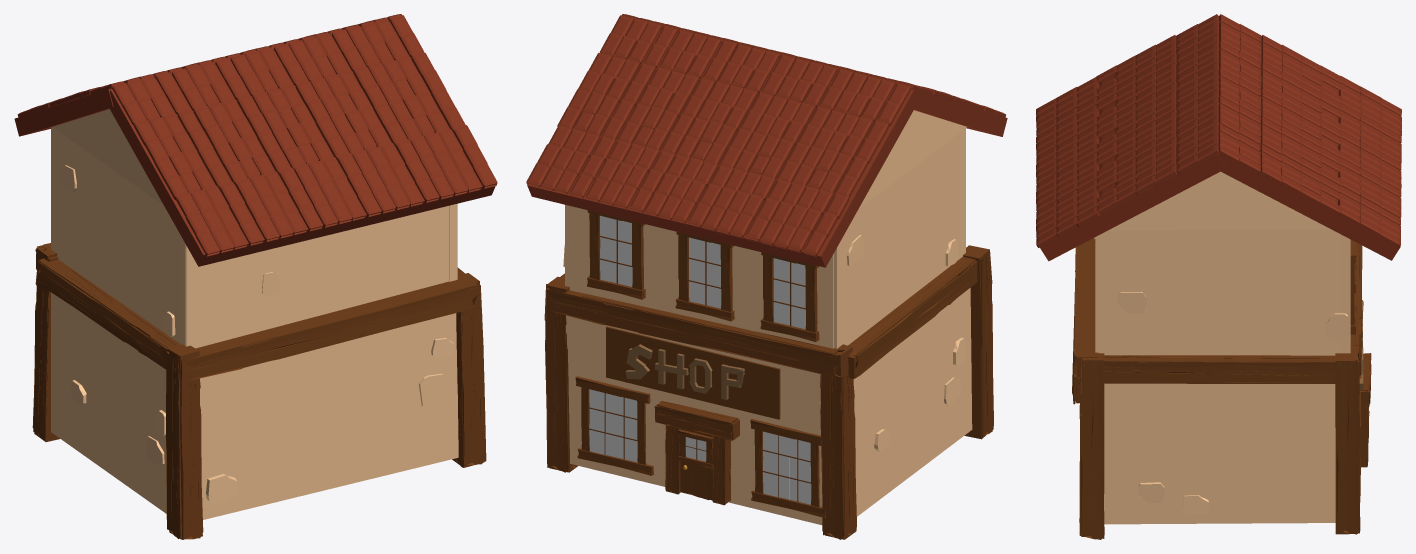
Rendered from Shop2.fbx.
3 views of the same model, side by side, from view 1: azimuth 30°, elevation 25°; view 2: azimuth 150°, elevation 25°; view 3: azimuth 270°, elevation 25° (orthographic). The views are drawn at different scales.
Parts seen in each view (by area): view 1: Cube.3309, Cube.3313, Cube.3314, Cube.3310, Cube.3465, Cube.3316, Cube.3473, Cube.3468, Cube.3474, Cube.3464, Cube.3472, Cube.3462 (+8 smaller); view 2: Cube.3310, Cube.3314, Cube.3308, Cube.3312, Cube.3317, Cube.3402, Cube.3445, Cube.3453, Cube.3449, Cube.3474, Cube.3462, Cube.3472 (+38 smaller); view 3: Cube.3311, Cube.3315, Cube.3475, Cube.3459, Cube.3470, Cube.3455, Cube.3316, Cube.3317, Cube.3464, Cube.3457, Cube.3312, Cube.3452 (+7 smaller).
Boxes of the visible parts, x1=… form: Cube.3309: x1=200, y1=313, x2=458, y2=519; Cube.3313: x1=181, y1=206, x2=448, y2=348; Cube.3314: x1=51, y1=127, x2=194, y2=347; Cube.3310: x1=51, y1=292, x2=166, y2=513; Cube.3465: x1=184, y1=285, x2=478, y2=379; Cube.3316: x1=109, y1=22, x2=496, y2=266; Cube.3473: x1=180, y1=353, x2=203, y2=539; Cube.3468: x1=461, y1=281, x2=485, y2=465; Cube.3474: x1=52, y1=109, x2=163, y2=205; Cube.3464: x1=188, y1=276, x2=478, y2=377; Cube.3472: x1=166, y1=351, x2=181, y2=539; Cube.3462: x1=37, y1=263, x2=162, y2=362; Cube.3310: x1=853, y1=288, x2=971, y2=516; Cube.3314: x1=834, y1=128, x2=965, y2=348; Cube.3308: x1=566, y1=315, x2=822, y2=524; Cube.3312: x1=565, y1=205, x2=833, y2=348; Cube.3317: x1=527, y1=29, x2=918, y2=267; Cube.3402: x1=606, y1=326, x2=780, y2=419; Cube.3445: x1=547, y1=292, x2=839, y2=376; Cube.3453: x1=545, y1=287, x2=568, y2=472; Cube.3449: x1=821, y1=374, x2=844, y2=539; Cube.3474: x1=859, y1=110, x2=966, y2=208; Cube.3462: x1=855, y1=269, x2=970, y2=378; Cube.3472: x1=980, y1=249, x2=993, y2=436; Cube.3311: x1=1104, y1=383, x2=1335, y2=524; Cube.3315: x1=1095, y1=229, x2=1341, y2=355; Cube.3475: x1=1108, y1=171, x2=1330, y2=230; Cube.3459: x1=1104, y1=361, x2=1335, y2=383; Cube.3470: x1=1081, y1=361, x2=1104, y2=539; Cube.3455: x1=1337, y1=360, x2=1360, y2=534; Cube.3316: x1=1039, y1=153, x2=1226, y2=261; Cube.3317: x1=1219, y1=154, x2=1400, y2=260; Cube.3464: x1=1076, y1=238, x2=1098, y2=377; Cube.3457: x1=1104, y1=355, x2=1335, y2=362; Cube.3312: x1=1341, y1=235, x2=1350, y2=353; Cube.3452: x1=1335, y1=351, x2=1357, y2=534.
Size of the model in its own units: 1441 by 1770 by 1526.
